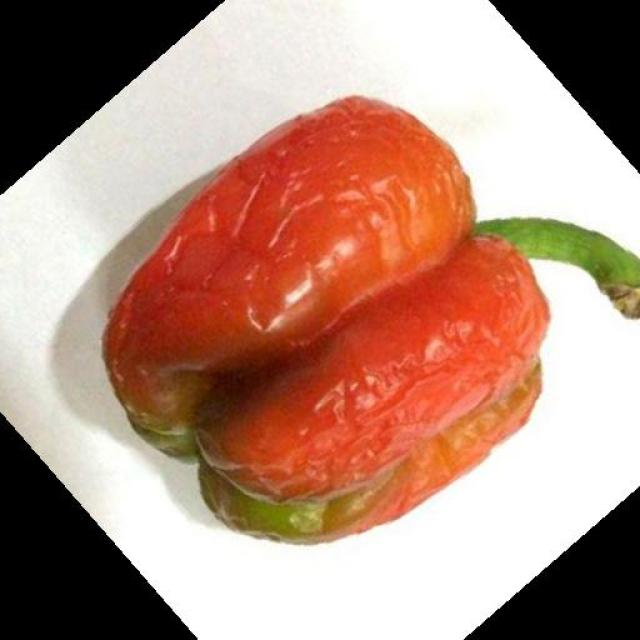Stale_Capsicum: (79, 50, 640, 491)
